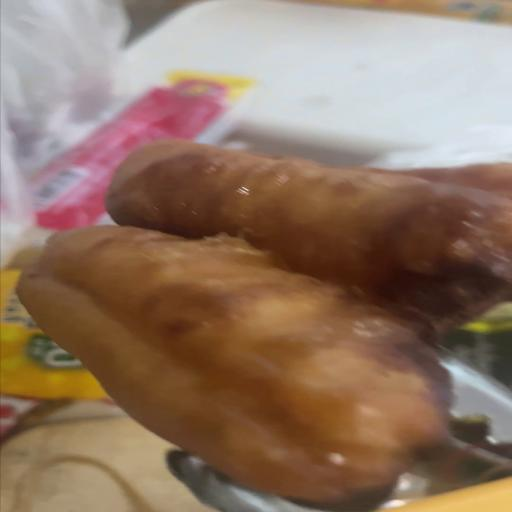street_burnt_defect: (106, 141, 512, 341)
